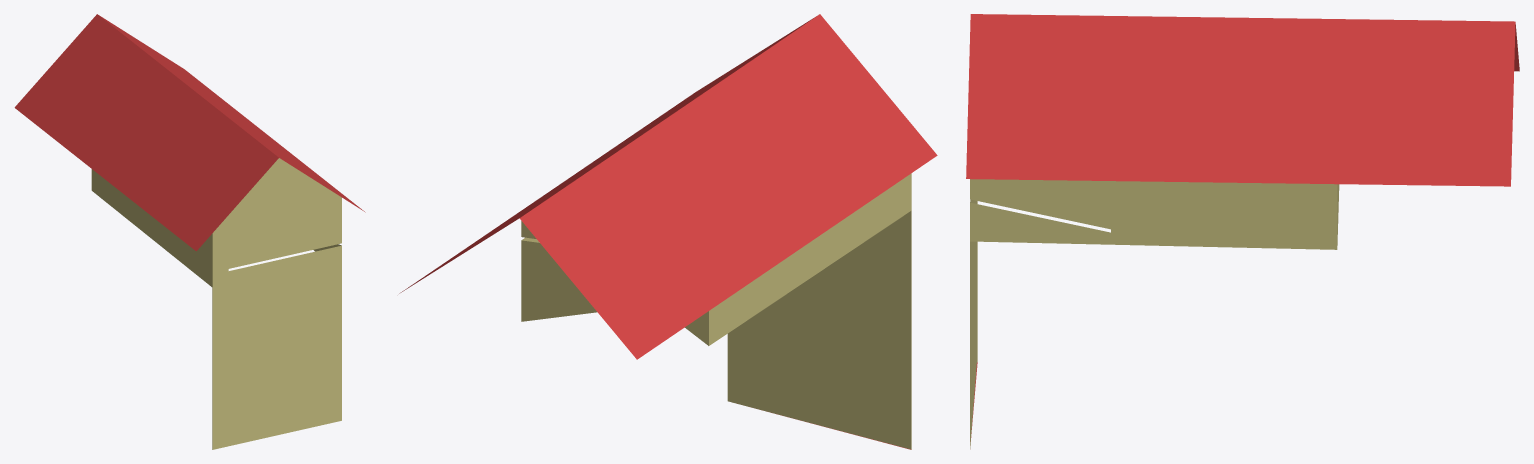
The picture shows the model from 3 angles, left to right: view 1: azimuth 30°, elevation 25°; view 2: azimuth 150°, elevation 25°; view 3: azimuth 270°, elevation 25°; orthographic projection. The views are drawn at different scales.
Size of the model in its own units: 8.25 by 15.75 by 12.32.
